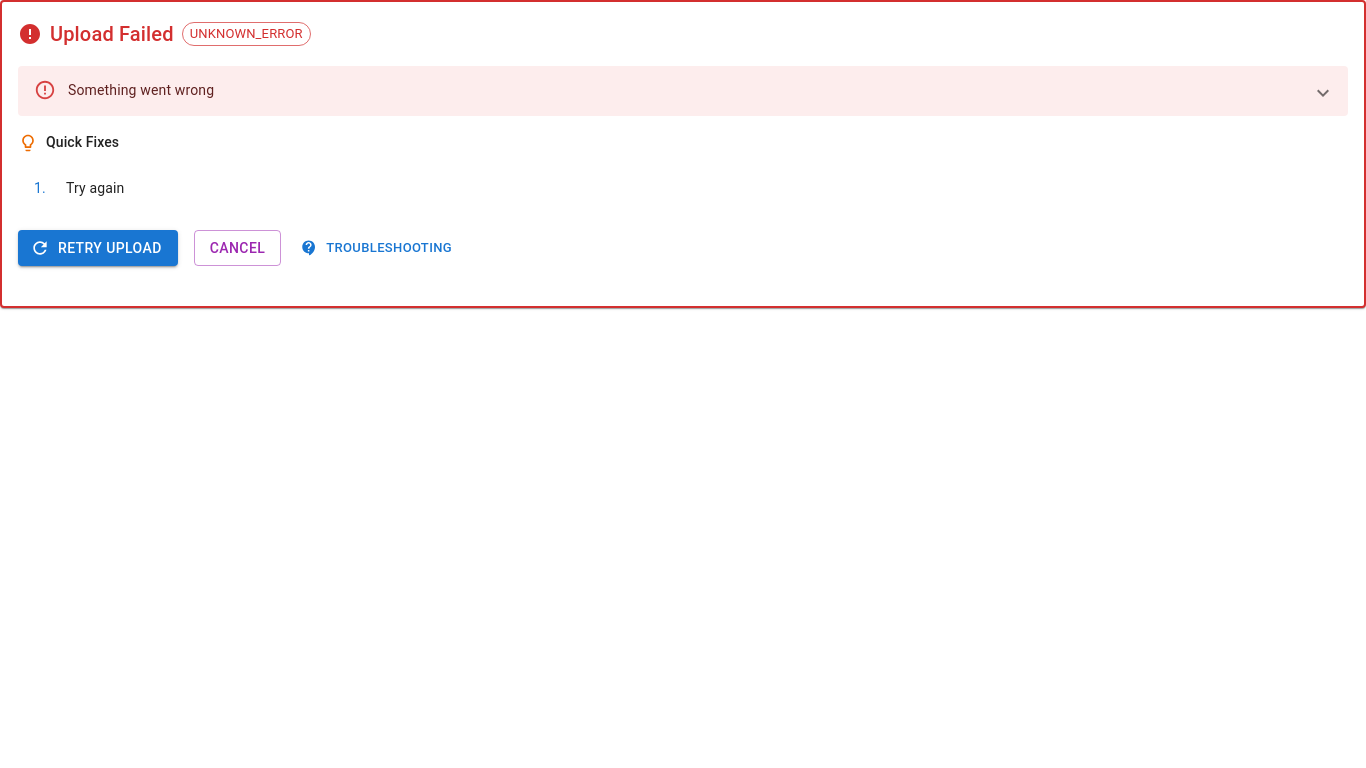
Scenario: ErrorRecoveryPanel Component › provides generic troubleshooting tips for unknown error codes
// Click troubleshooting button
Click the button "Troubleshooting" at (377, 248), box [297, 230, 457, 266]
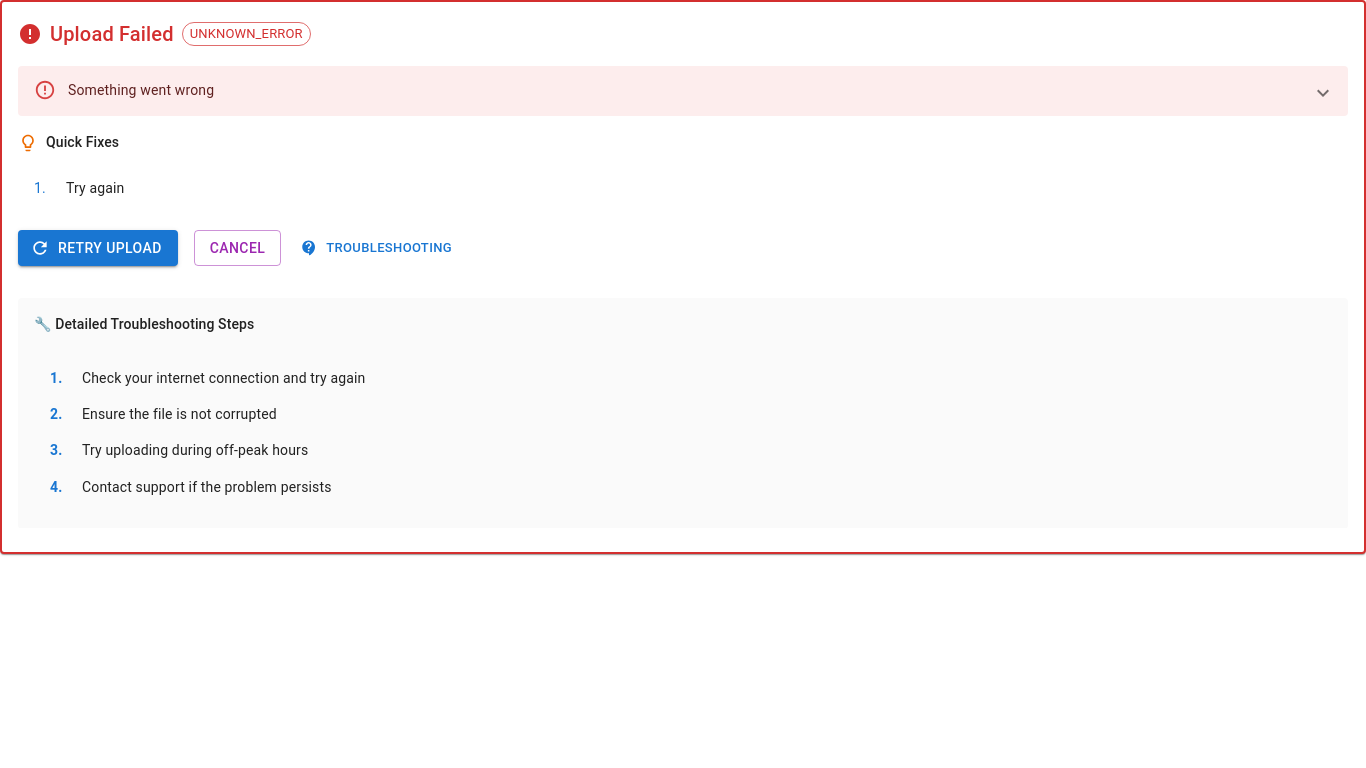
Expected: the text "Check your internet connection and try again" is shown, [82, 370, 366, 386]
